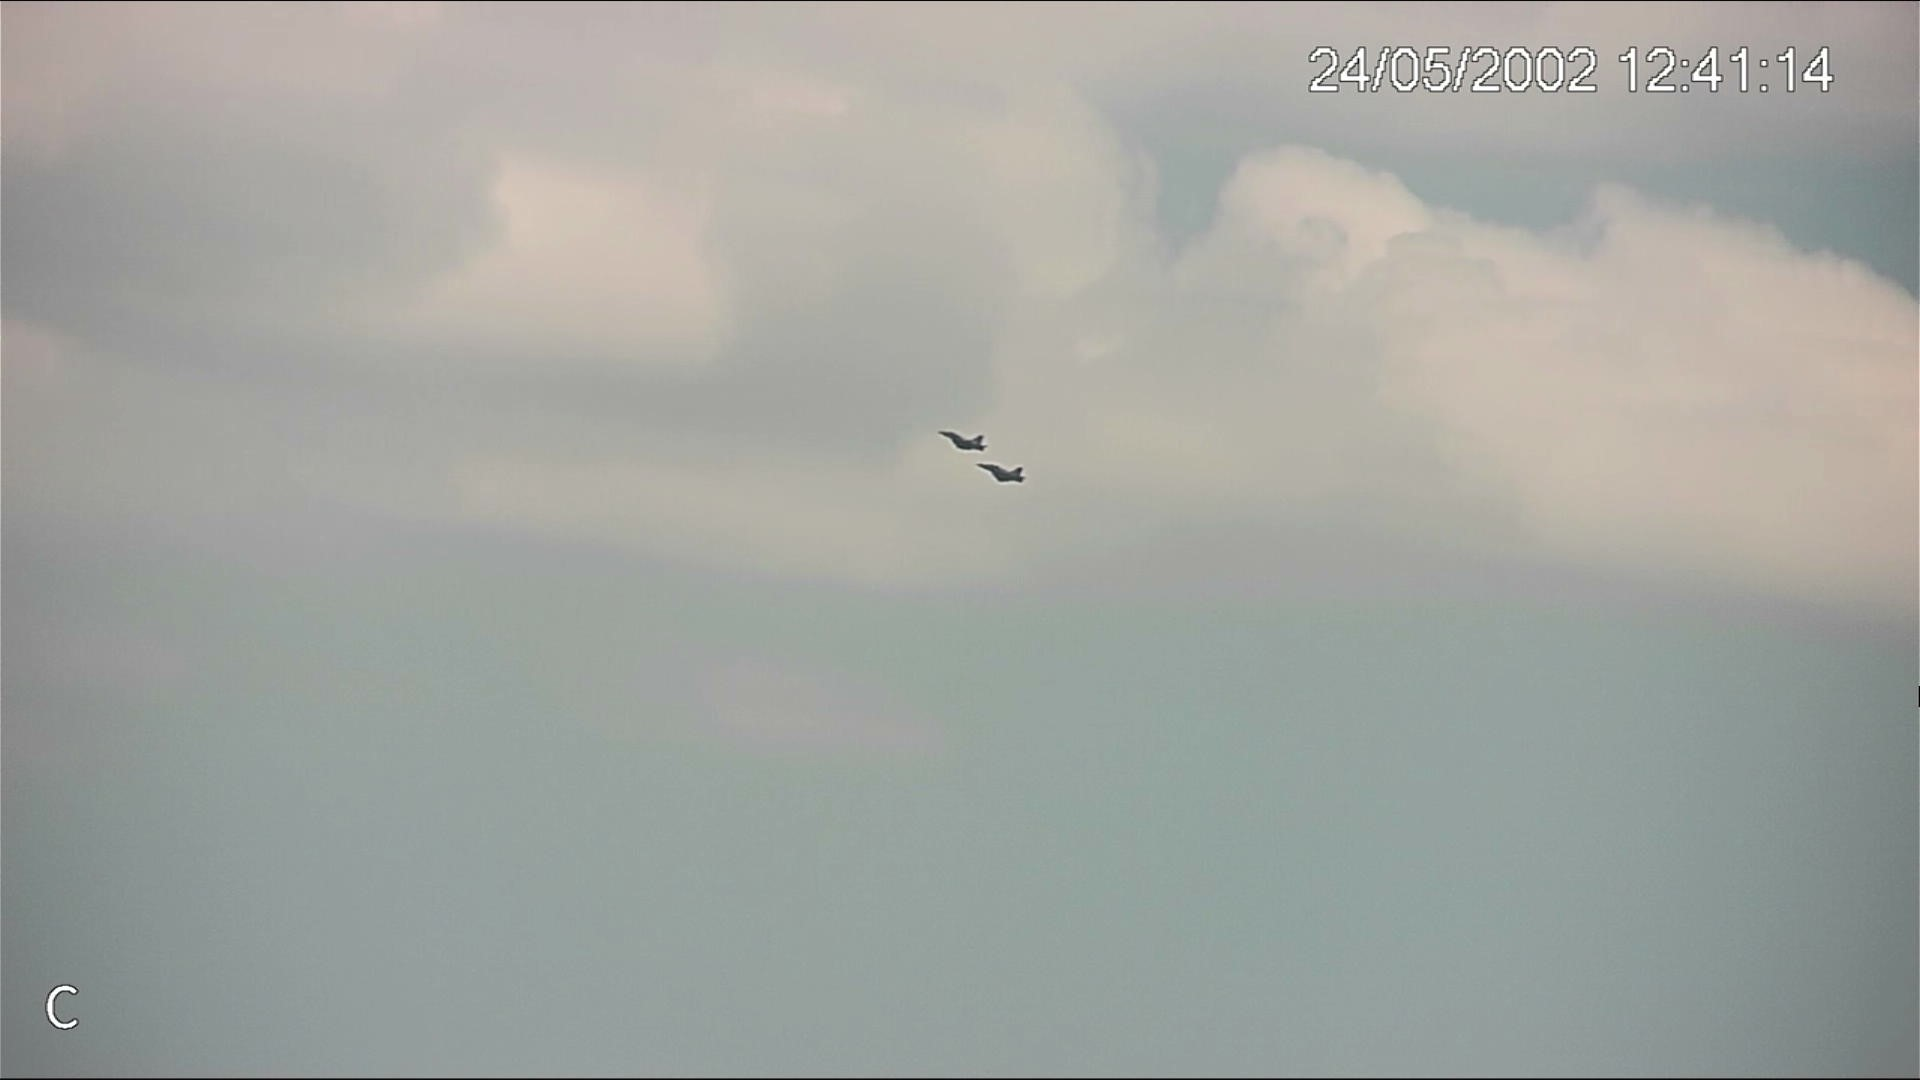SU_30: (938, 429, 988, 454), (975, 462, 1025, 487)
